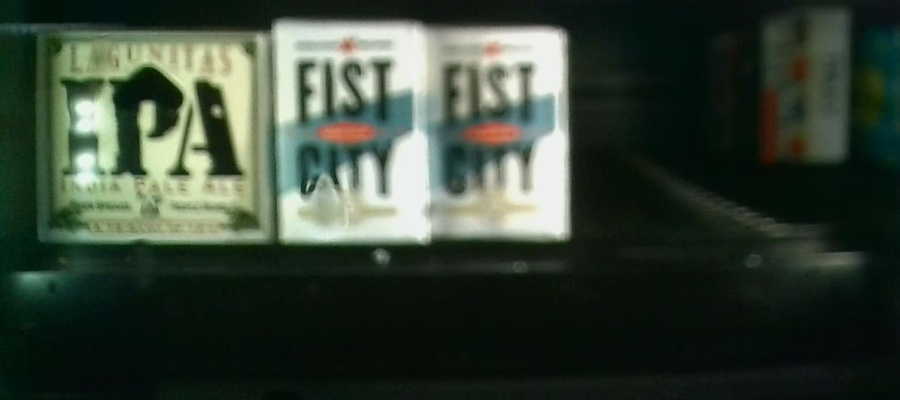bottle: (38, 27, 273, 244), (275, 18, 427, 241), (429, 25, 570, 242)
